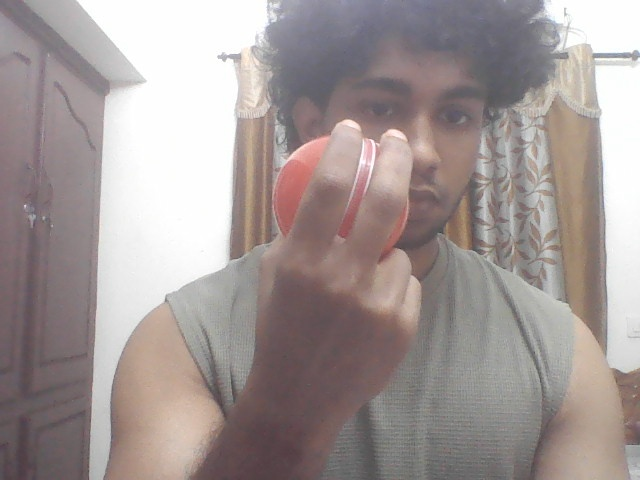cricket_ball: (260, 133, 415, 266)
